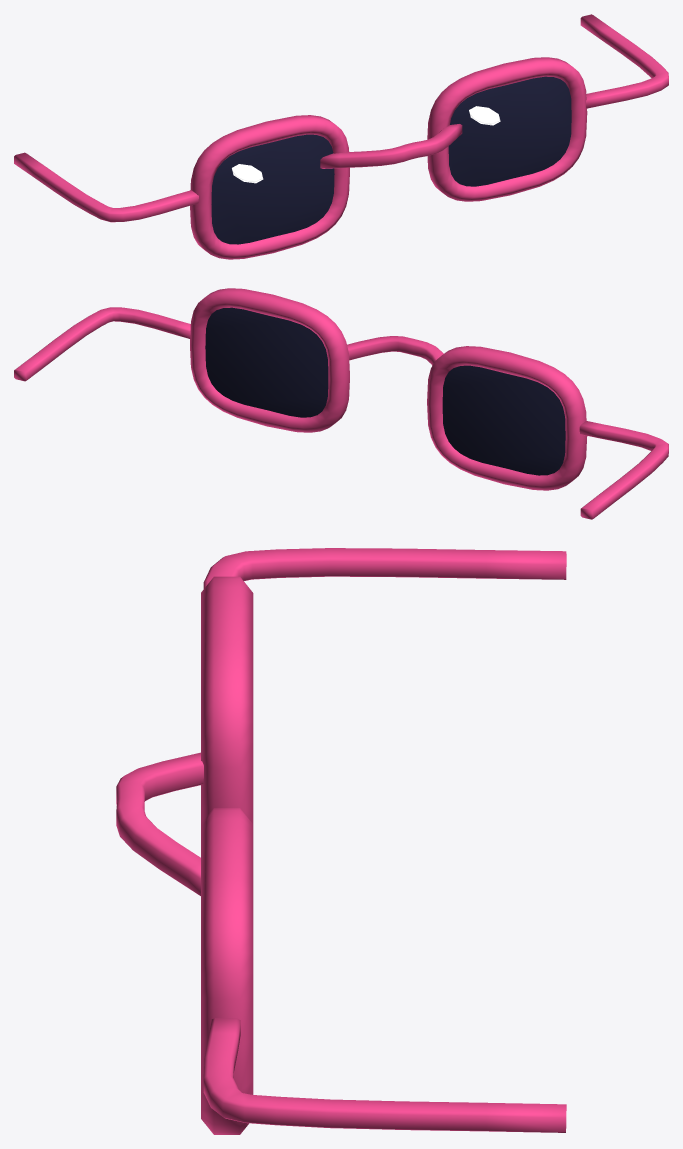
The model's file is sunglasses-dog.glb.
3 renders of one model, top to bottom at view 1: azimuth 30°, elevation 25°; view 2: azimuth 150°, elevation 25°; view 3: azimuth 270°, elevation 25°, orthographic. The views are drawn at different scales.
Visible parts, largest first — view 1: lens.001, lens, rim.001, rim, temple.001, temple, bridge, shine, shine.001; view 2: lens.001, lens, rim, rim.001, temple, temple.001, bridge; view 3: rim, temple, rim.001, temple.001, bridge.
Part boxes in pixels (<box>): lens.001: <box>211,134,334,244</box>; lens: <box>448,76,571,186</box>; rim.001: <box>190,115,349,259</box>; rim: <box>427,57,587,201</box>; temple.001: <box>14,152,198,222</box>; temple: <box>580,14,668,108</box>; bridge: <box>320,124,462,168</box>; shine: <box>469,106,500,125</box>; shine.001: <box>232,164,263,183</box>; lens.001: <box>442,365,565,475</box>; lens: <box>205,307,328,417</box>; rim: <box>190,288,349,432</box>; rim.001: <box>427,346,587,490</box>; temple: <box>14,307,190,381</box>; temple.001: <box>579,421,668,519</box>; bridge: <box>347,336,443,365</box>; rim: <box>201,808,253,1134</box>; temple: <box>203,1018,566,1132</box>; rim.001: <box>201,576,253,823</box>; temple.001: <box>203,548,566,588</box>; bridge: <box>116,752,203,895</box>.
Bounding box in the file's own units: 1.33 × 0.2784 × 0.4471.
